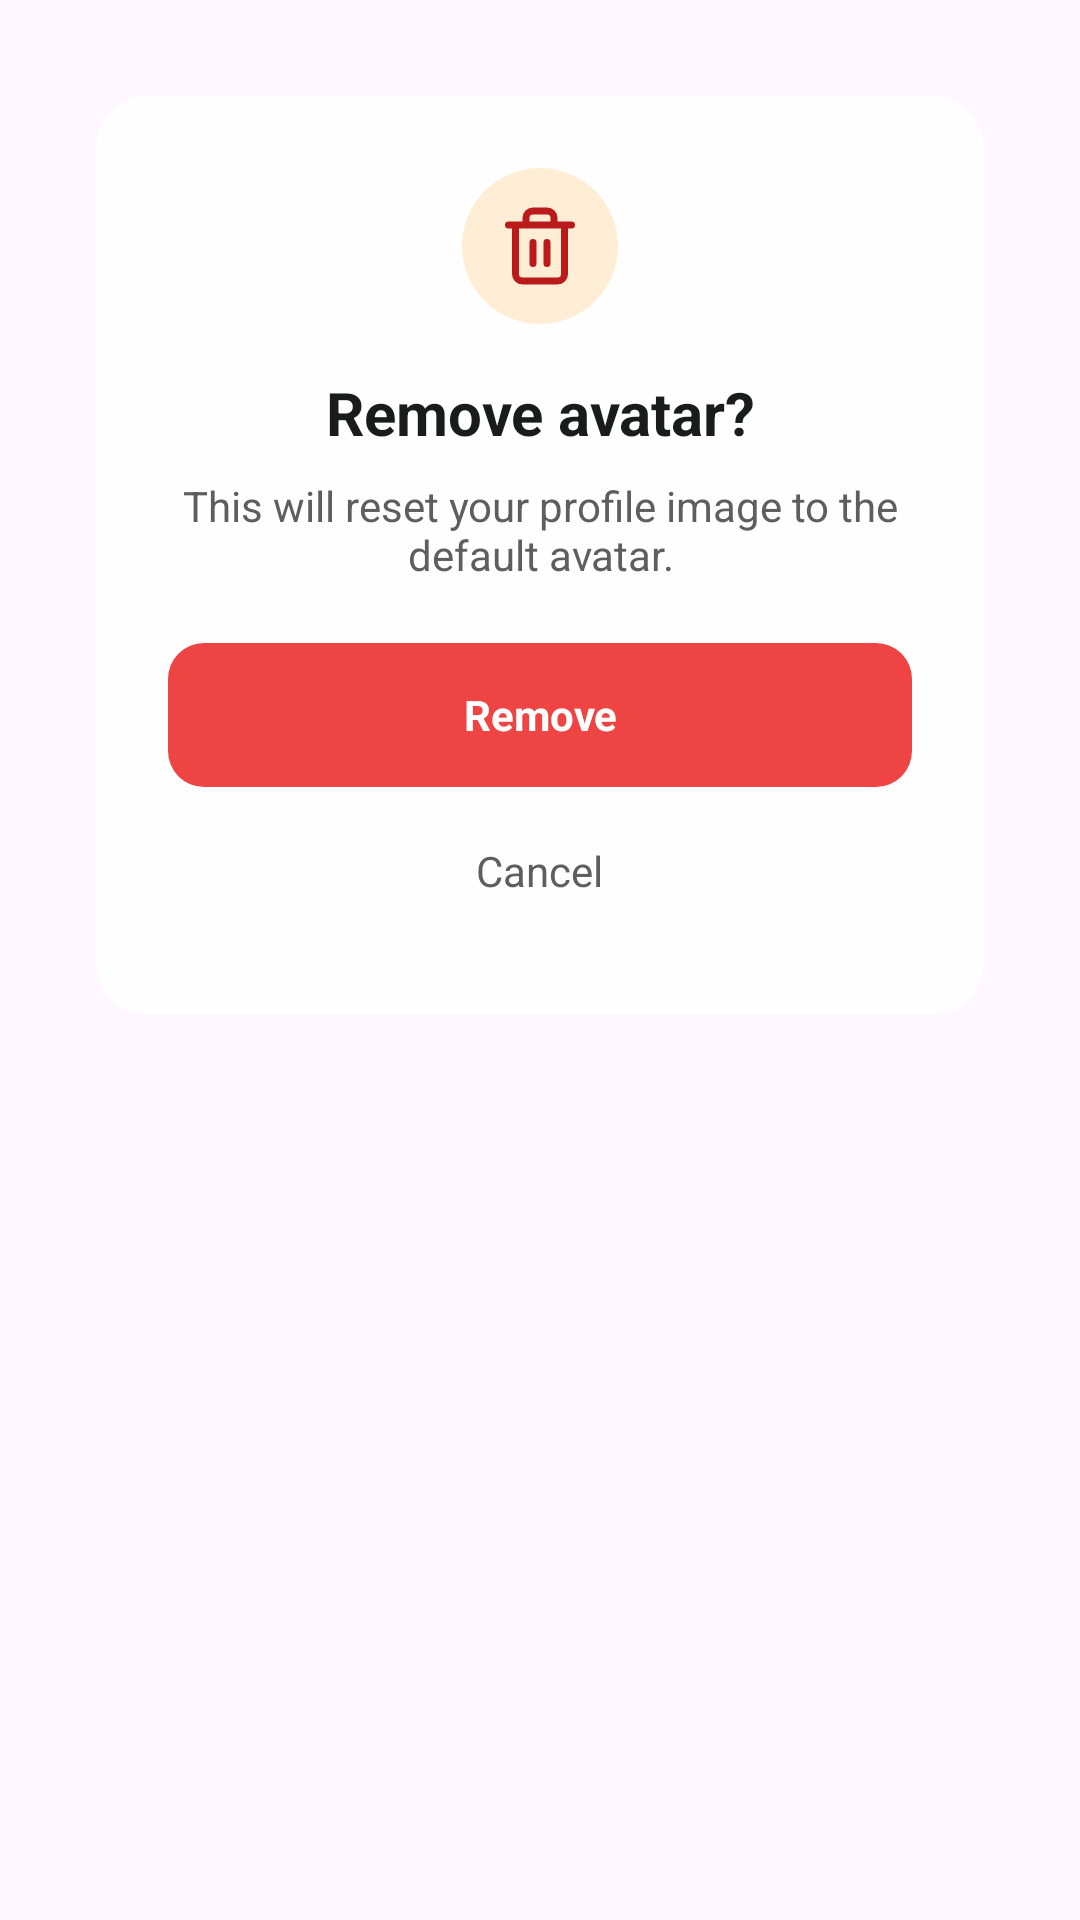

Point at icon controls on the screen. Image size 1080w x 1920h, points as [x,y].
delete: [540,246]
